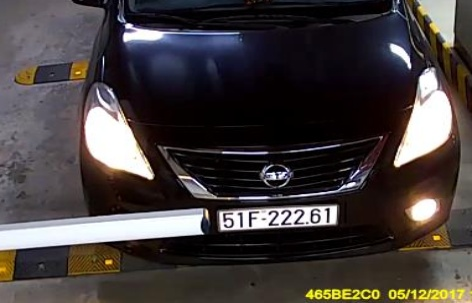plate: (215, 201, 343, 235)
